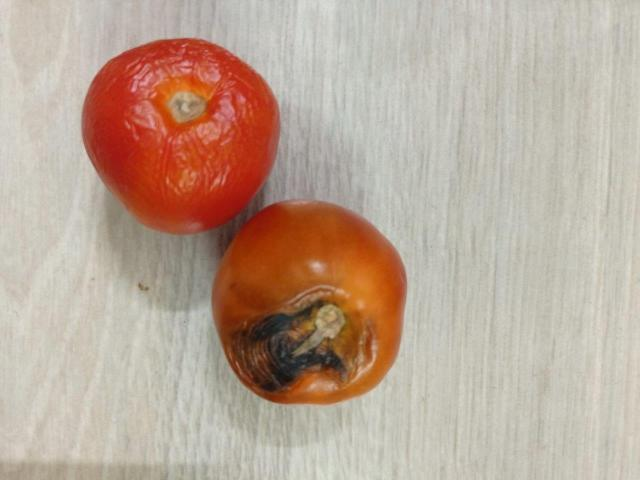defect: (206, 196, 414, 412), (78, 33, 284, 238)
